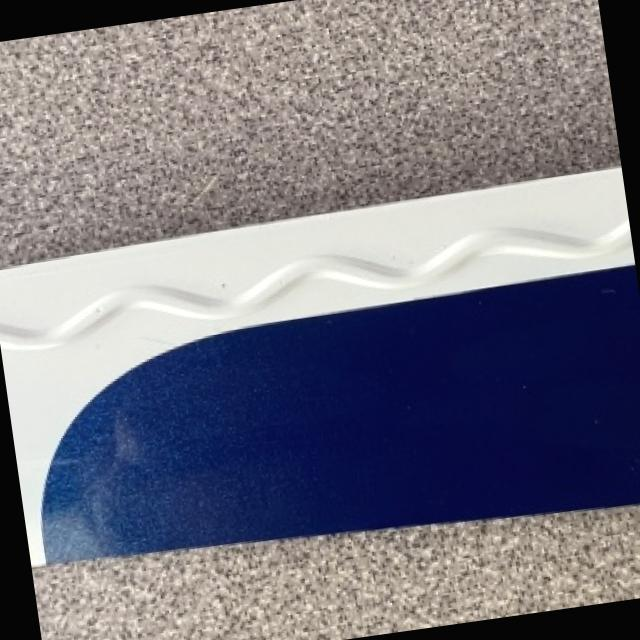healthy: (0, 168, 640, 561)
